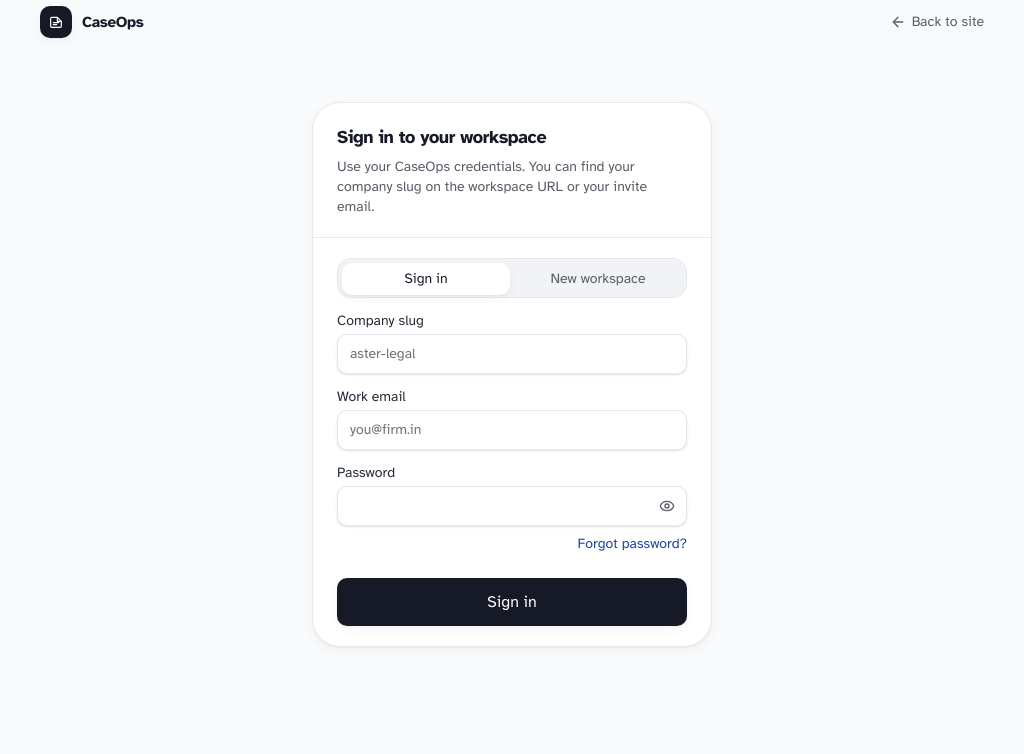
Test: SignInForm › switches to the New workspace tab and shows the bootstrap form
The width and height of the screenshot is (1024, 754).
Click the tab "New workspace": x=598, y=278 [514, 262, 682, 294]
(page scrolled)
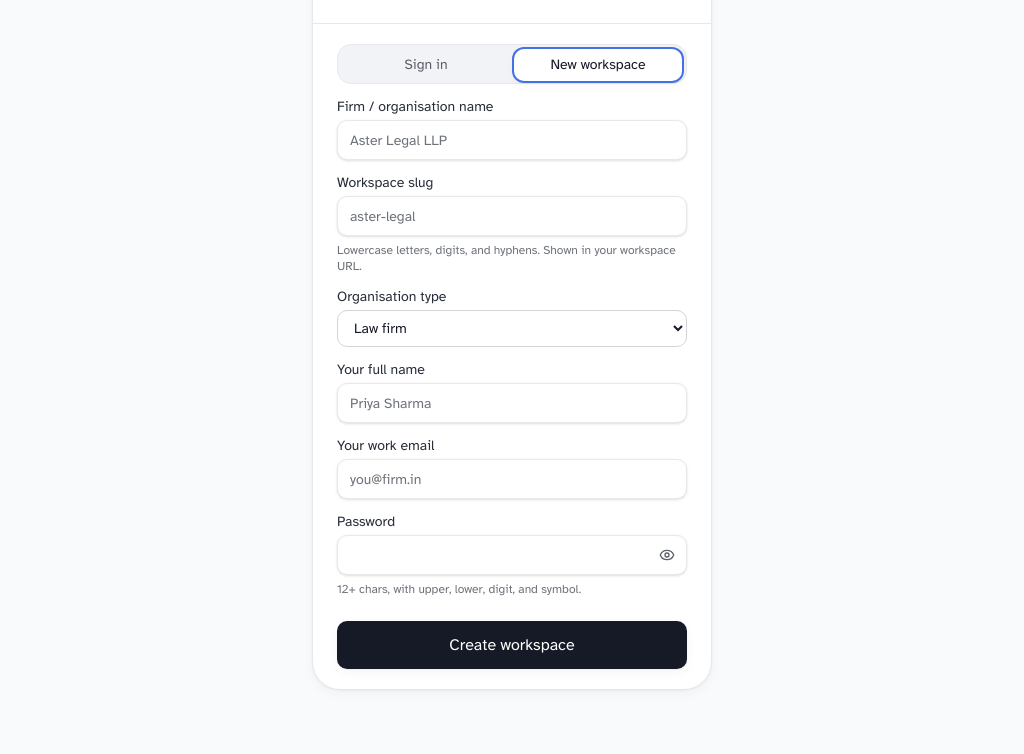
Check: the field labelled "Firm / organisation name" is shown, box [337, 120, 687, 160]
Check: the field labelled "Your full name" is shown, box [337, 383, 687, 423]
Check: the button with test id "new-workspace-submit" is shown, box [337, 621, 687, 669]
